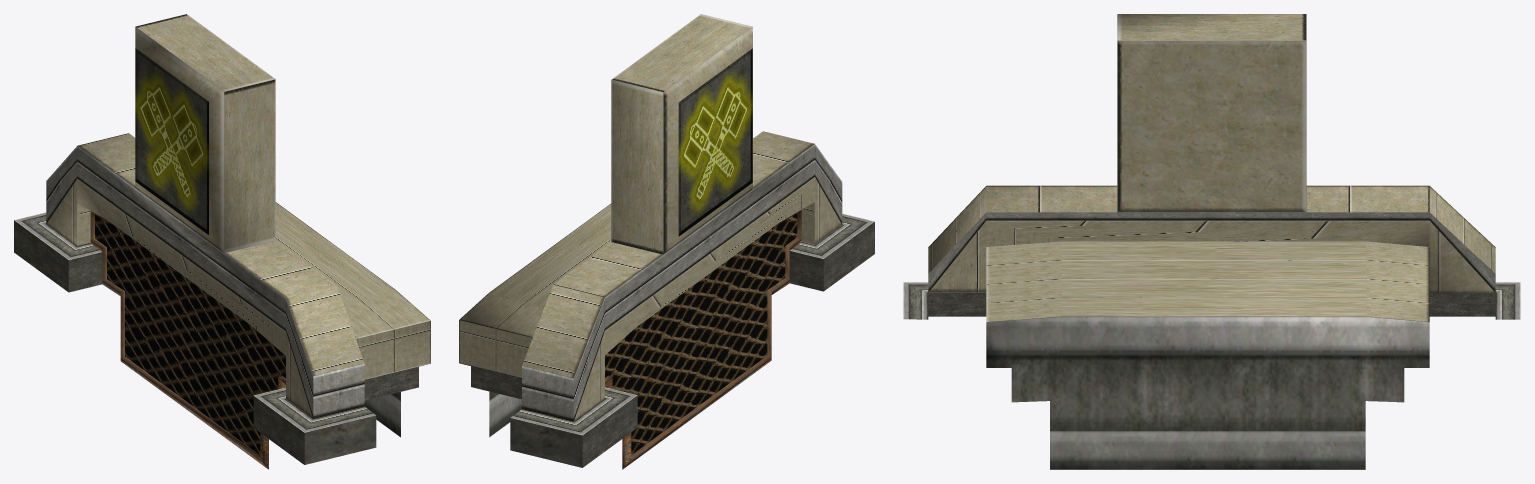
File: WATERROOM_CANAL_COOLER_WATERROOM_CANAL_COOLER01.fbx
3 renders of one model, left to right at view 1: azimuth 30°, elevation 25°; view 2: azimuth 150°, elevation 25°; view 3: azimuth 270°, elevation 25°, orthographic. The views are drawn at different scales.
Parts seen in each view (by area): view 1: WATERROOM_CANAL_COOLER_WATERROOM_CANAL_COOLER01; view 2: WATERROOM_CANAL_COOLER_WATERROOM_CANAL_COOLER01; view 3: WATERROOM_CANAL_COOLER_WATERROOM_CANAL_COOLER01.
Part boxes in pixels (x1=…): WATERROOM_CANAL_COOLER_WATERROOM_CANAL_COOLER01: x1=14, y1=14, x2=430, y2=469; WATERROOM_CANAL_COOLER_WATERROOM_CANAL_COOLER01: x1=459, y1=14, x2=874, y2=469; WATERROOM_CANAL_COOLER_WATERROOM_CANAL_COOLER01: x1=903, y1=14, x2=1520, y2=469.
Bounding box in the file's own units: 16097 × 33273 × 48907.
Materials: 7 (7 with a texture image).
